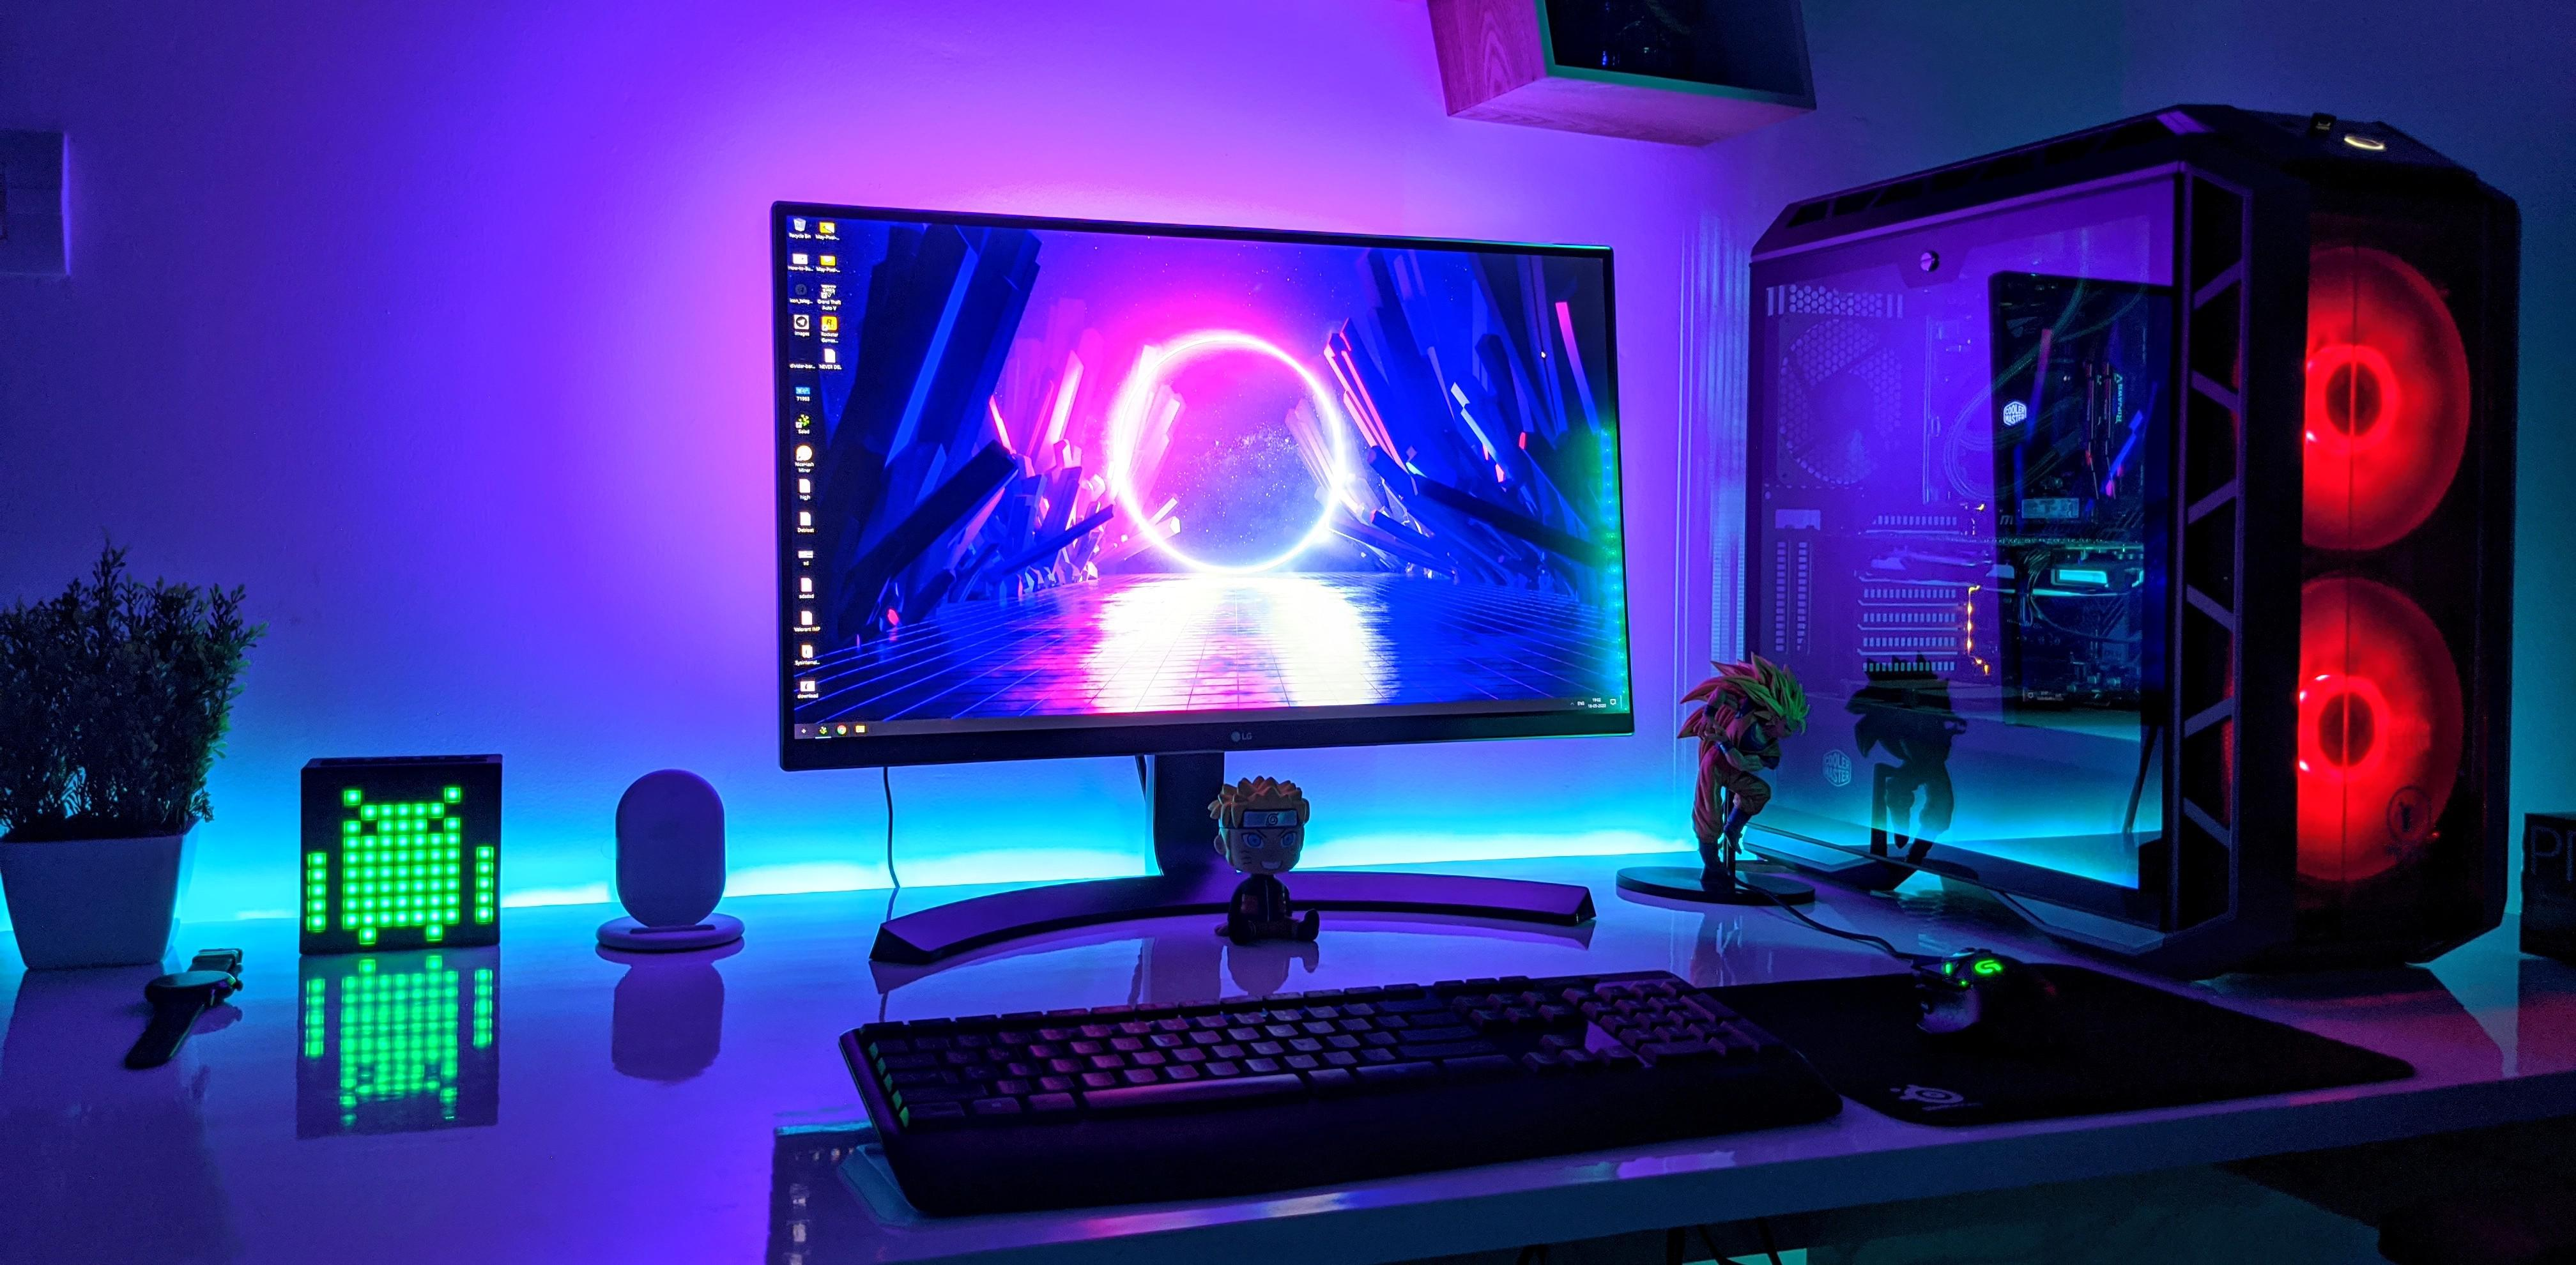Cellphone Charger (Wireless): (580, 762, 761, 974)
Decoration (Generic): (289, 746, 519, 950)
Decoration (Miniature): (1625, 649, 1810, 912), (1191, 769, 1370, 951)
Decoration (Plant): (0, 552, 274, 981)
Desk (Generic): (0, 843, 2576, 1265)
Desktop (Windows): (1740, 100, 2530, 986)
Keyboard (Generic): (839, 964, 1850, 1222)
Monitor (Landscape): (769, 195, 1636, 764)
Mouse (Gaming): (1871, 923, 2100, 1053)
Mousepad (Gaming): (1732, 950, 2420, 1137)
